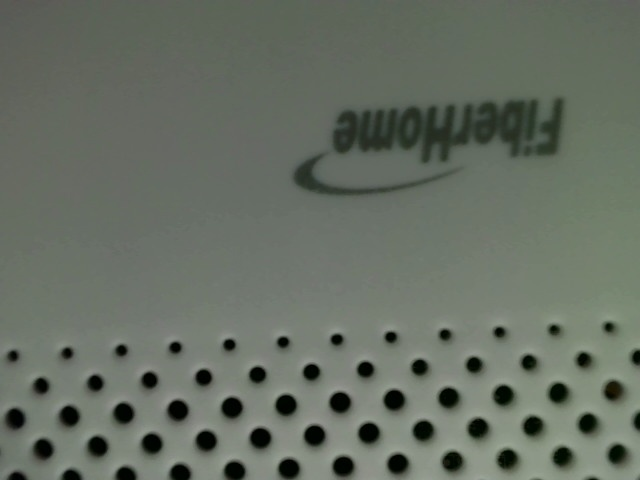AI_FiberHome: (281, 91, 577, 205)
